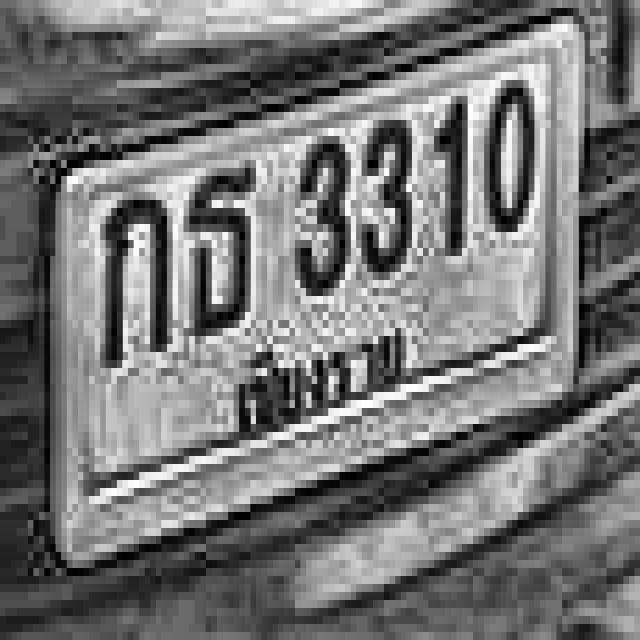license-plate: (49, 12, 596, 577)
